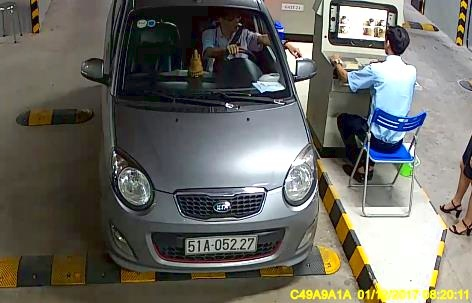plate: (184, 232, 256, 253)
